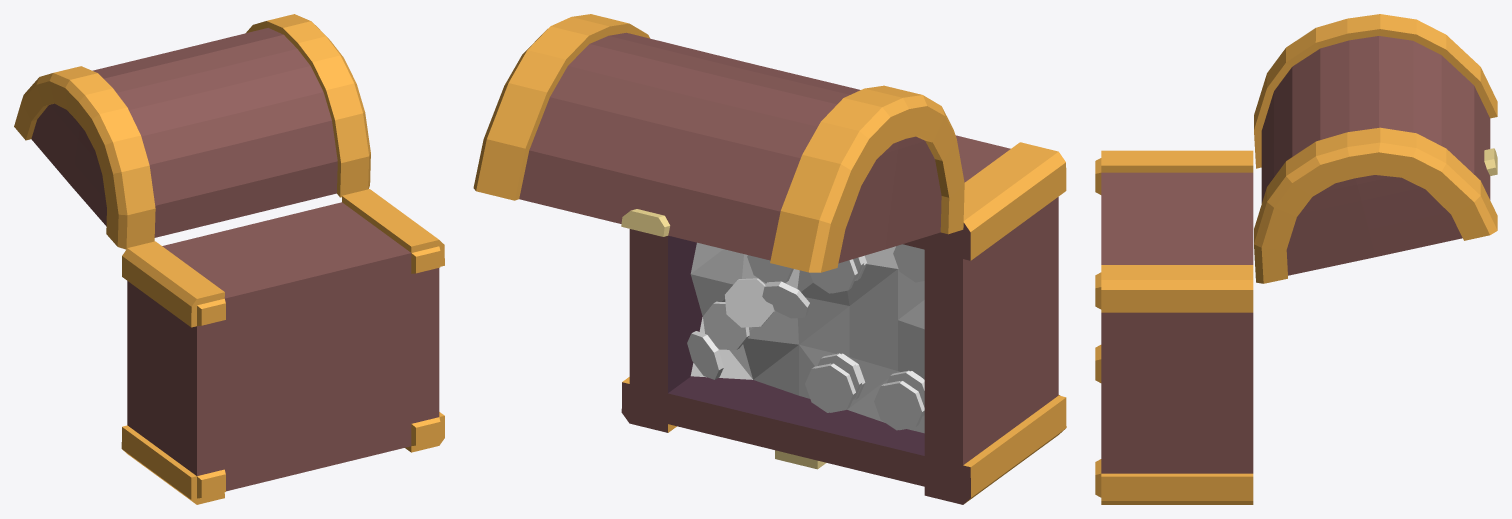
Rendered from _hestOpen.fbx.
The picture shows the model from 3 angles, left to right: view 1: azimuth 30°, elevation 25°; view 2: azimuth 150°, elevation 25°; view 3: azimuth 270°, elevation 25°; orthographic projection. The views are drawn at different scales.
Parts seen in each view (by area): view 1: ChestOpen; view 2: ChestOpen, Cube, Cylinder.003, Cylinder.001, Cylinder.005, Cylinder.002, Cylinder.004, Cylinder; view 3: ChestOpen.
Boxes of the visible parts, bbox=[...] form: ChestOpen: bbox=[14, 14, 444, 504]; ChestOpen: bbox=[473, 14, 1066, 504]; Cube: bbox=[690, 242, 924, 433]; Cylinder.003: bbox=[687, 278, 774, 379]; Cylinder.001: bbox=[805, 353, 865, 412]; Cylinder.005: bbox=[874, 370, 924, 430]; Cylinder.002: bbox=[747, 255, 809, 318]; Cylinder.004: bbox=[810, 255, 866, 293]; Cylinder: bbox=[893, 244, 924, 282]; ChestOpen: bbox=[1095, 14, 1497, 504].
Bounding box in the file's own units: 600 × 755 × 749.
